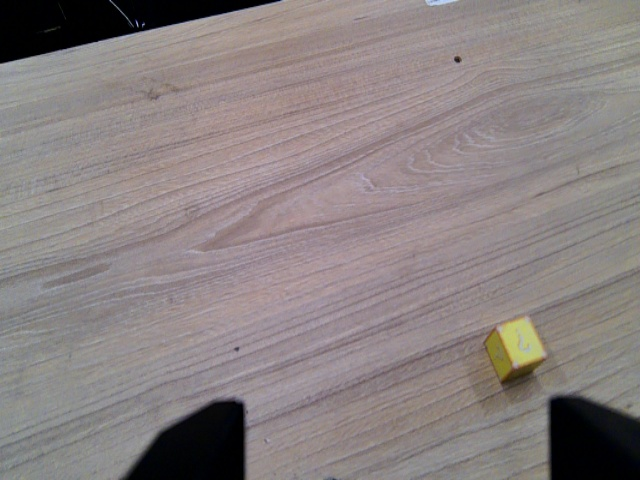lucky: (484, 311, 548, 386)
